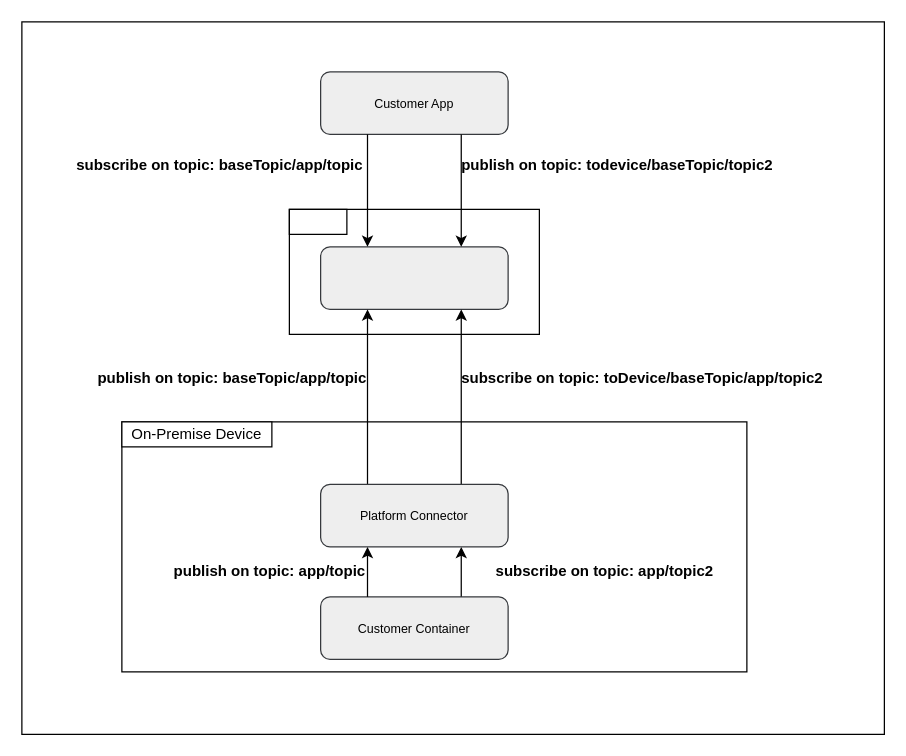
This 906x756 diagram has some shape labels left out. Each missing label, with the centre of its shape:
"Cloud" belongs at point 317,221.
"netFIELD Data Service Broker" belongs at point 413,277.
